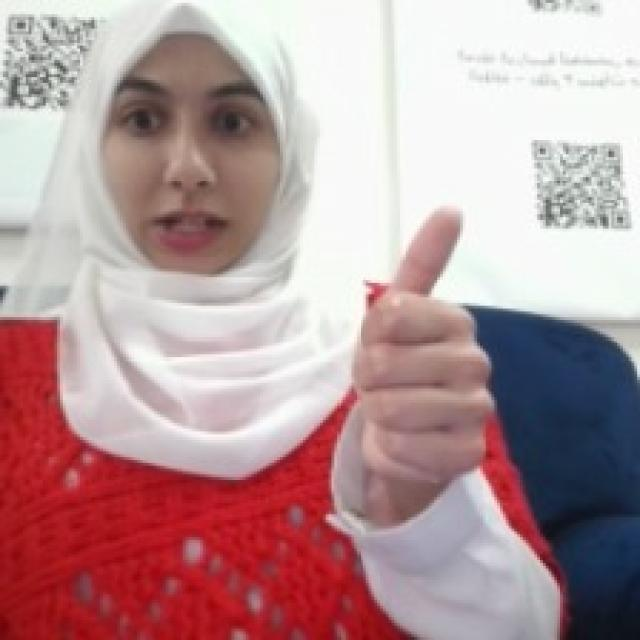fine: (343, 185, 497, 506)
